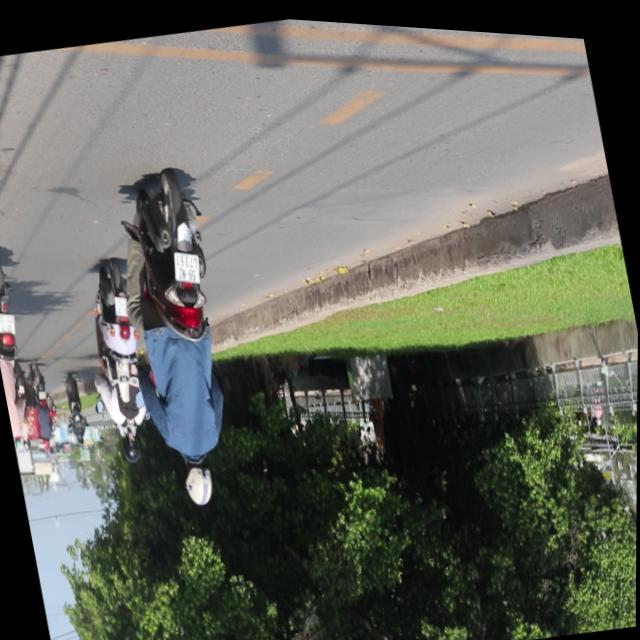helmet: (181, 451, 220, 509), (121, 425, 147, 465)
licenseplate: (102, 157, 261, 516), (74, 255, 163, 469), (0, 247, 50, 478)
nohelmet: (171, 246, 205, 286), (0, 312, 19, 338), (114, 294, 131, 317)
